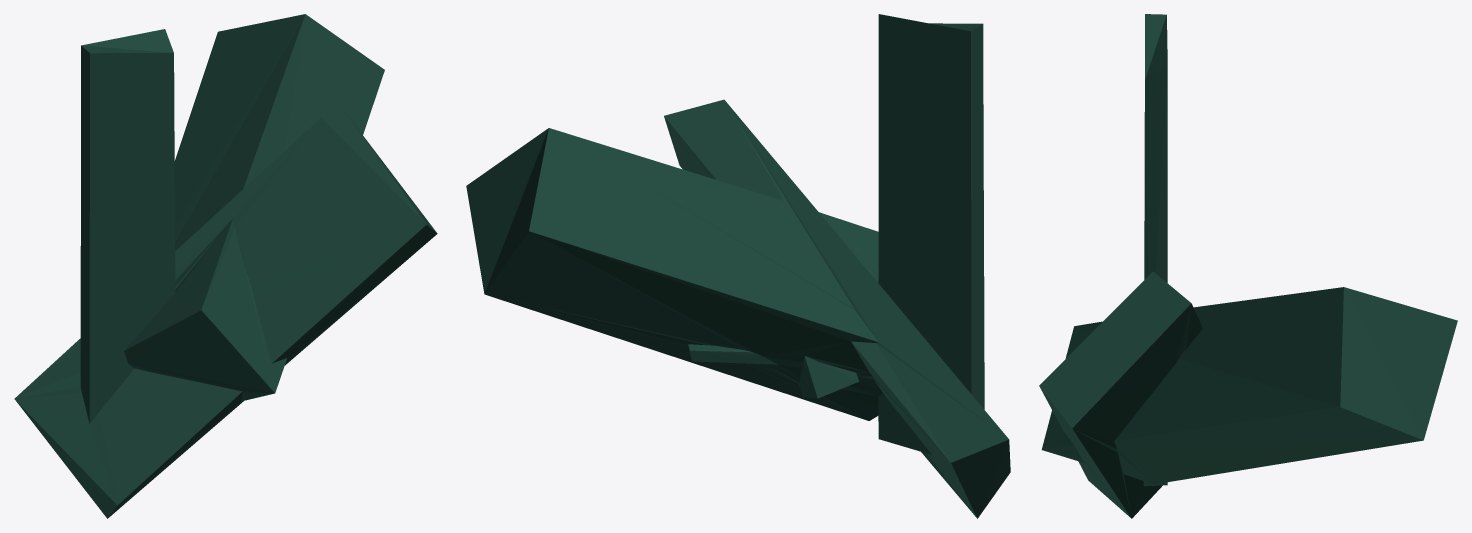
The picture shows the model from 3 angles, left to right: view 1: azimuth 30°, elevation 25°; view 2: azimuth 150°, elevation 25°; view 3: azimuth 270°, elevation 25°; orthographic projection. The views are drawn at different scales.
Visible parts, largest first — view 1: 443_Cube.1794; view 2: 443_Cube.1794; view 3: 443_Cube.1794.
Boxes of the visible parts, left/top/right/bottom form: 443_Cube.1794: left=14, top=14, right=437, bottom=518; 443_Cube.1794: left=466, top=14, right=1010, bottom=518; 443_Cube.1794: left=1039, top=14, right=1457, bottom=518.
Bounding box in the file's own units: 14.35 × 14.6 × 11.11.
